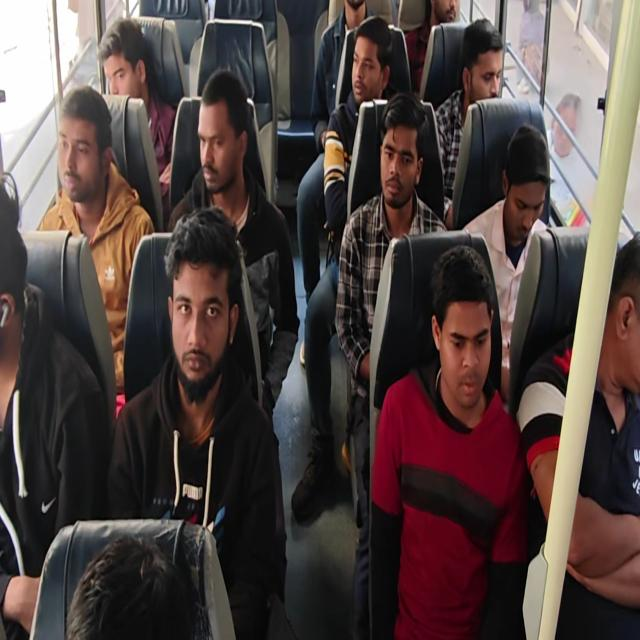person: (55, 515, 208, 640), (157, 224, 230, 394), (430, 271, 509, 418), (0, 191, 49, 397), (188, 81, 254, 232), (583, 241, 640, 398), (494, 117, 558, 250), (53, 94, 105, 211), (370, 105, 419, 225), (458, 22, 510, 114), (90, 33, 148, 113), (349, 26, 385, 106), (427, 0, 460, 31), (338, 0, 378, 11)
